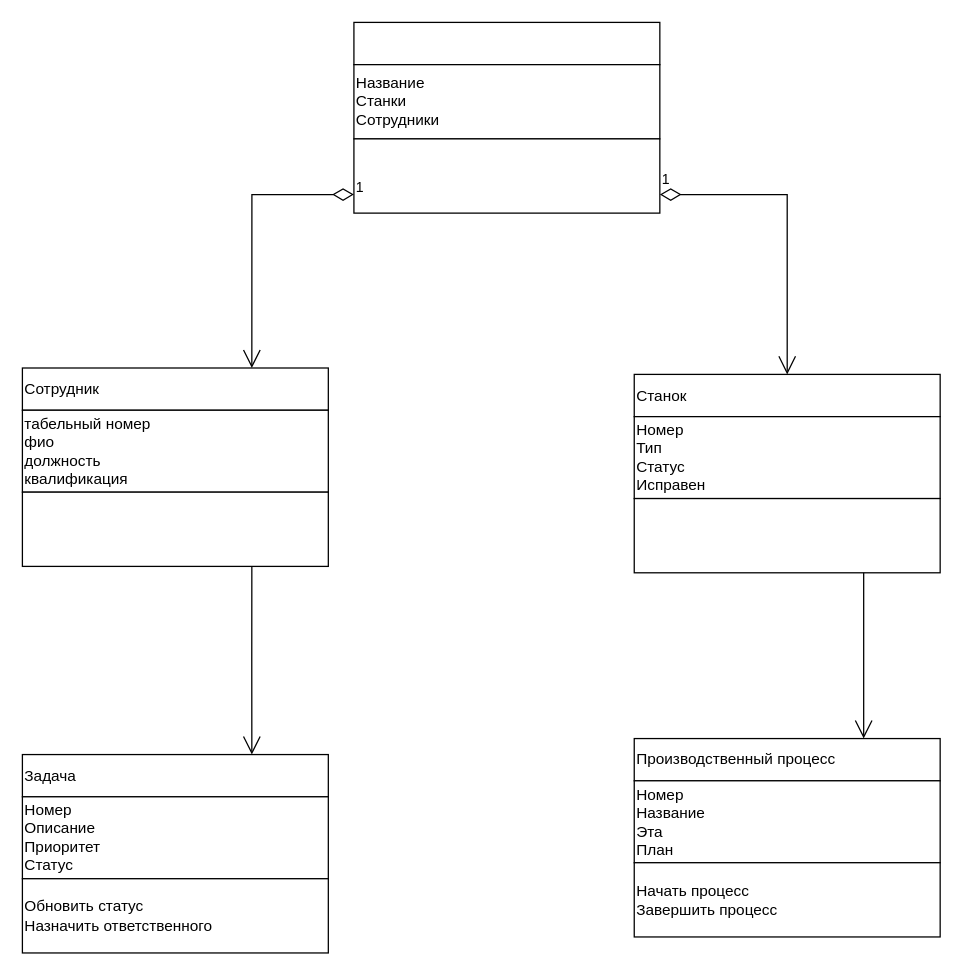
This 963x975 diagram has some shape labels left out. Each missing label, with the centre of its shape:
"добавить станок убрать станок" goes at point (506, 175).
"назначить на задачу отчёт о работе" goes at point (174, 528).
"Проверить исправность Начать работу остановить" goes at point (786, 535).
"Производство(Цех)" goes at point (506, 43).
